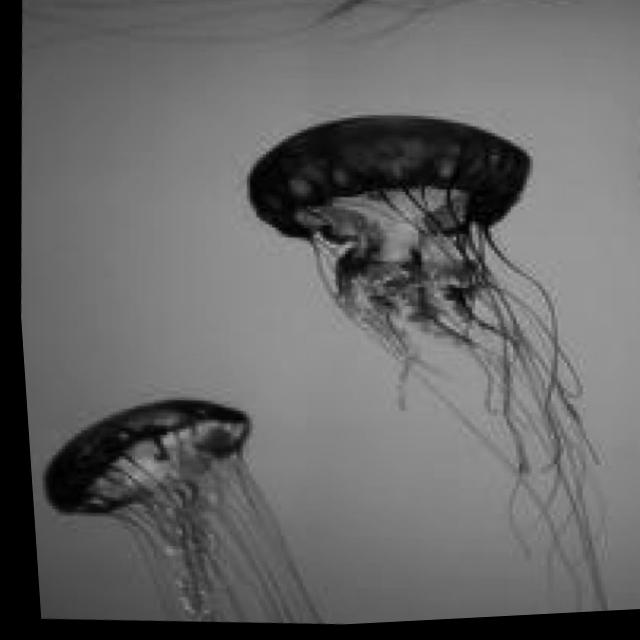Box-jellyfish: (208, 98, 640, 632)
